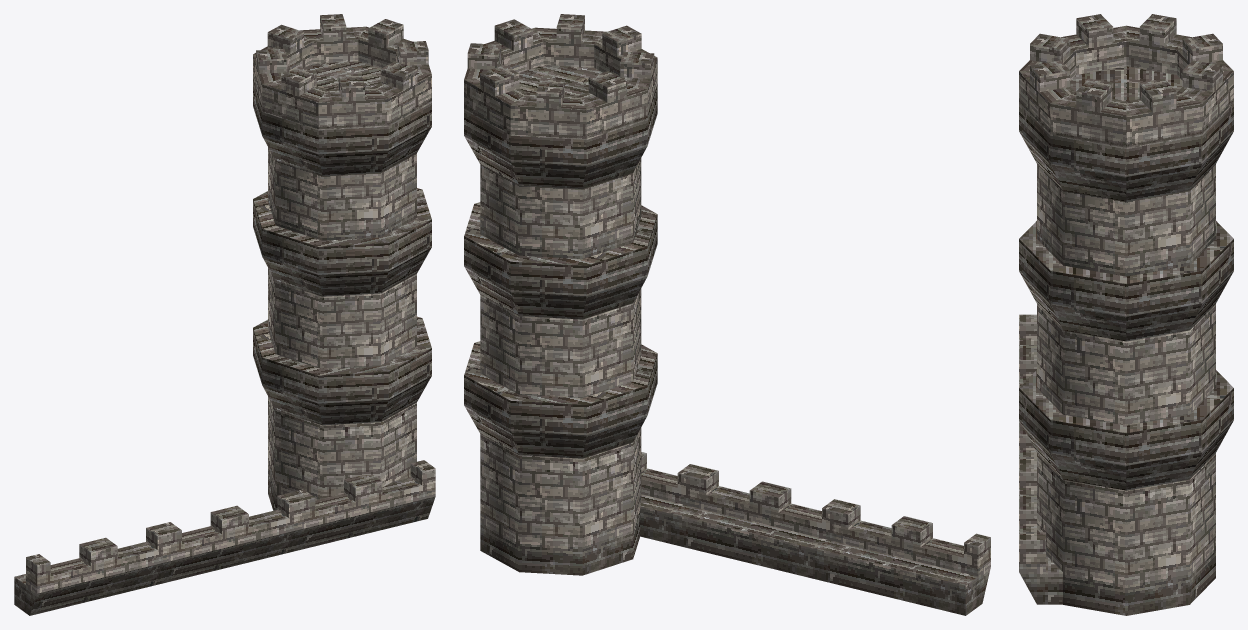
File: medieval.gltf
The picture shows the model from 3 angles, left to right: view 1: azimuth 30°, elevation 25°; view 2: azimuth 150°, elevation 25°; view 3: azimuth 270°, elevation 25°; orthographic projection. The views are drawn at different scales.
Visible parts, largest first — view 1: tower_top, tower.002, tower.001, tower, tower_edge.001, tower_edge, battlement, tower_edge.002, battlement.001, battlement.002; view 2: tower, tower_top, tower.002, tower.001, battlement, tower_edge, tower_edge.001, battlement.002, tower_edge.002, battlement.001; view 3: tower, tower_top, tower.002, tower.001, tower_edge.001, tower_edge, tower_edge.002, battlement.001, battlement, battlement.002.
Boxes of the visible parts, x1,y1,x2,y2 form: tower_top: [253, 14, 431, 130]; tower.002: [268, 61, 416, 240]; tower.001: [268, 268, 416, 369]; tower: [268, 396, 416, 510]; tower_edge.001: [253, 188, 431, 296]; tower_edge: [253, 316, 431, 425]; battlement: [14, 524, 170, 615]; tower_edge.002: [253, 79, 431, 175]; battlement.001: [291, 460, 435, 550]; battlement.002: [158, 492, 302, 583]; tower: [480, 428, 641, 575]; tower_top: [464, 14, 657, 139]; tower.002: [480, 65, 641, 258]; tower.001: [480, 288, 641, 398]; battlement: [821, 502, 990, 615]; tower_edge: [464, 341, 657, 458]; tower_edge.001: [464, 202, 657, 319]; battlement.002: [679, 467, 848, 580]; tower_edge.002: [464, 84, 657, 189]; battlement.001: [640, 452, 703, 545]; tower: [1037, 453, 1215, 615]; tower_top: [1019, 14, 1233, 148]; tower.002: [1037, 66, 1215, 276]; tower.001: [1037, 304, 1215, 425]; tower_edge.001: [1019, 221, 1233, 341]; tower_edge: [1019, 370, 1233, 490]; tower_edge.002: [1019, 99, 1233, 201]; battlement.001: [1019, 464, 1062, 604]; battlement: [1019, 314, 1036, 387]; battlement.002: [1019, 420, 1036, 464].
Size of the model in its own units: 3.23 by 3.23 by 1.2.
Materials: 17 (17 with a texture image).
